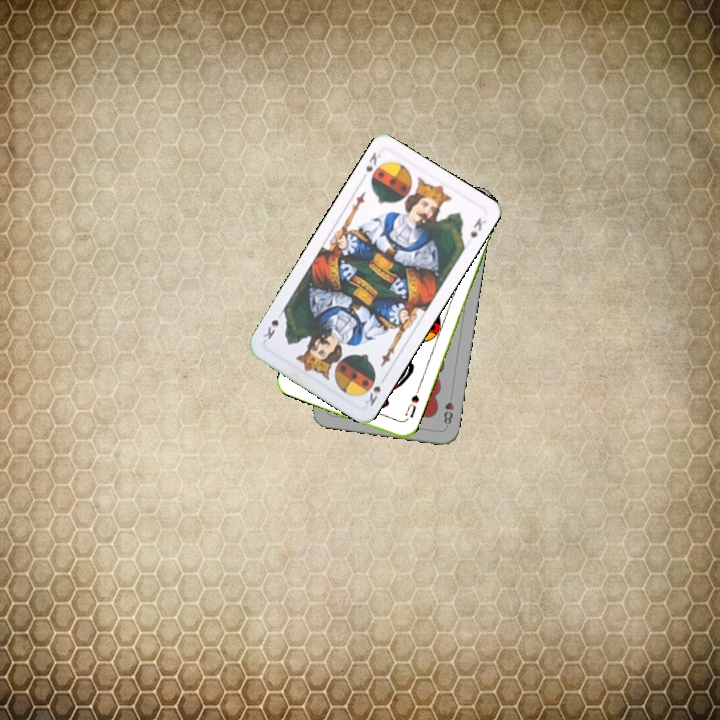H8: (439, 389, 456, 427)
SK: (361, 371, 383, 409), (361, 148, 385, 175)
SU: (401, 385, 422, 420)
